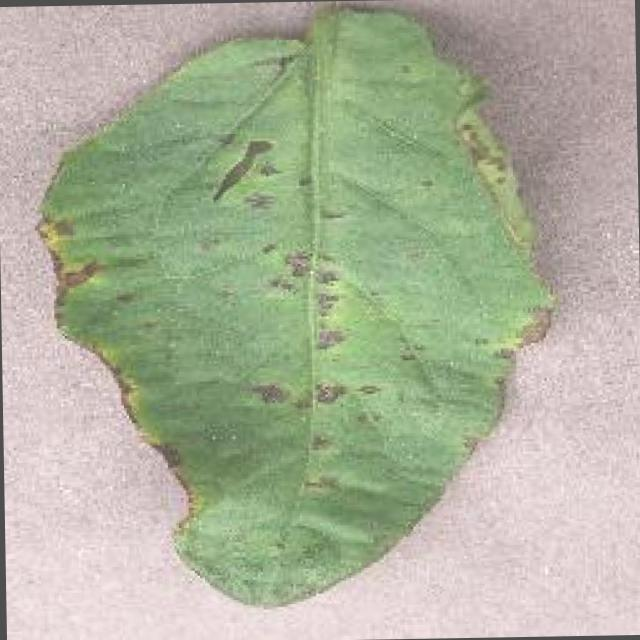bacterial spot: (31, 9, 553, 612)
